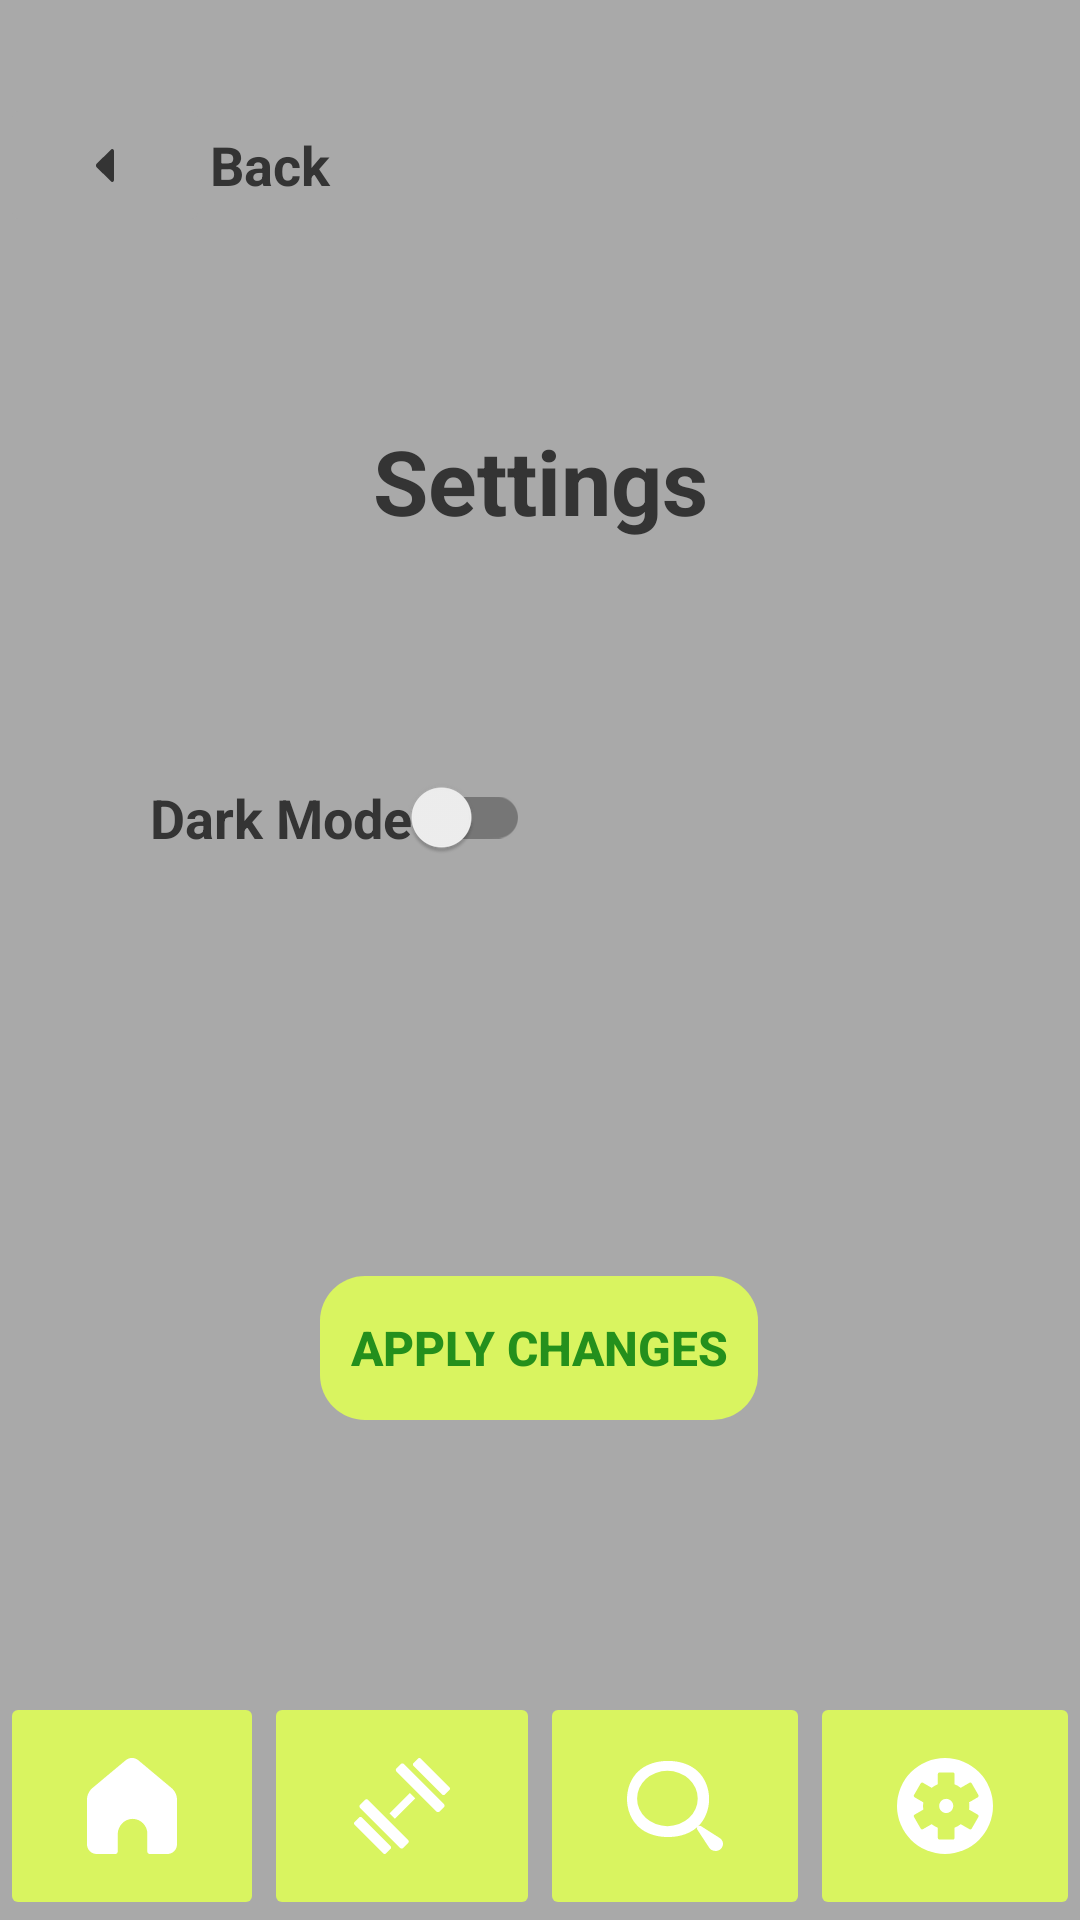

Icon click points for this 1080*1920 phone screenshot, format (x,y):
Go to Settings: (945,1806)
Go to the Home Page: (132,1806)
Search for a Workout: (675,1806)
View your Workouts: (402,1806)
